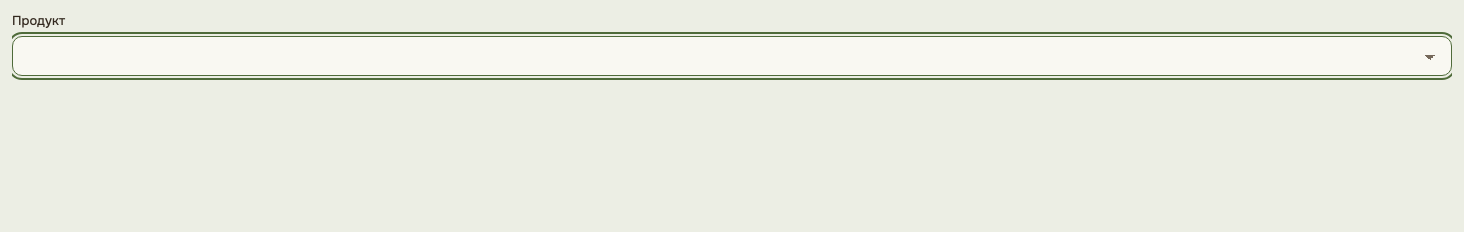
it: at-combobox › Esc closes without choosing; a click chooses
Press Arrowdown Arrowdown Escape
Expected: the dropdown is empty, [12,36,1452,76]
Press Arrowdown
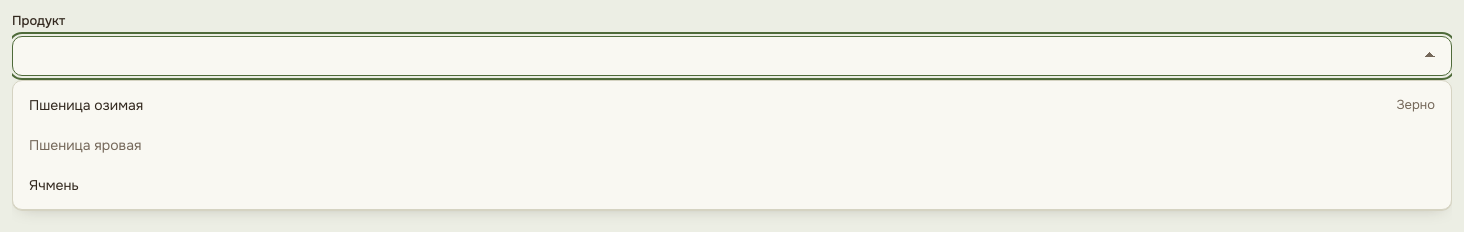
Click the option "Ячмень" at (54, 185), box [29,176,79,194]
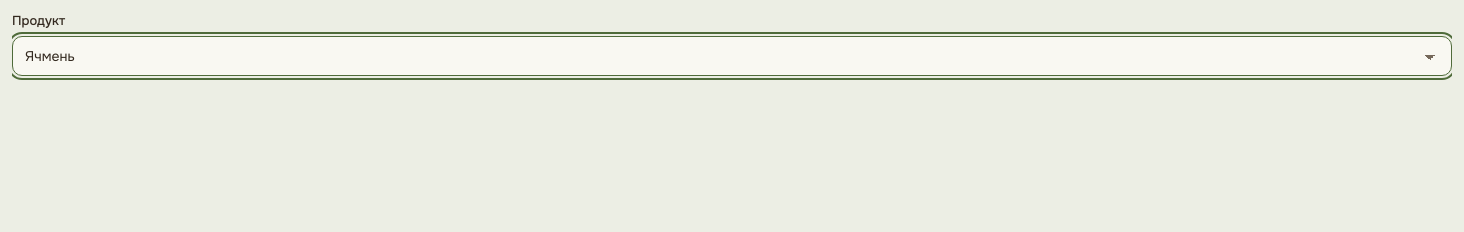
Expected: the dropdown holds "Ячмень", [12,36,1452,76]
